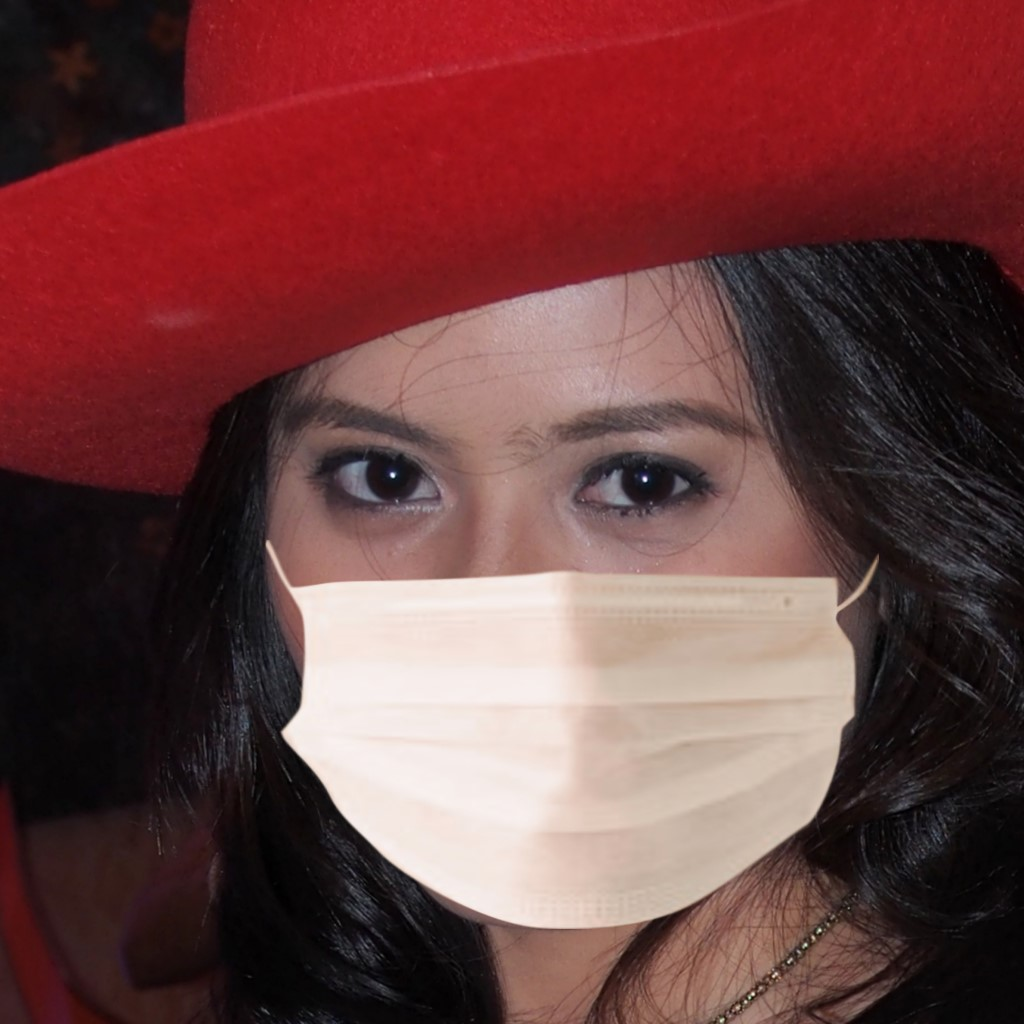con_mascara: (232, 234, 880, 908)
